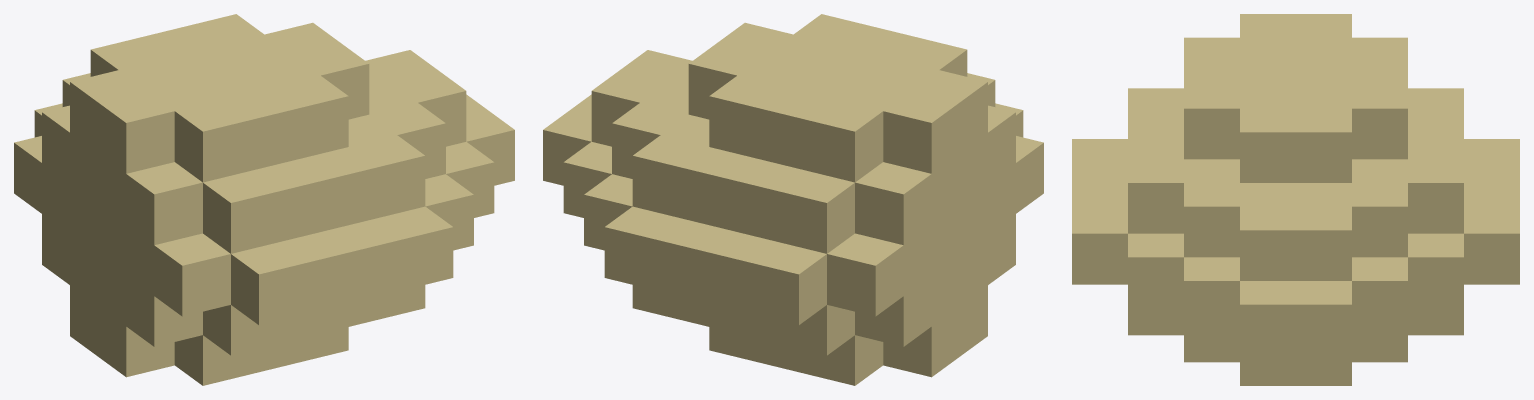
Rendered from Snake01-Tail.gltf.
3 views of the same model, side by side, from view 1: azimuth 30°, elevation 25°; view 2: azimuth 150°, elevation 25°; view 3: azimuth 270°, elevation 25° (orthographic).
Bounding box in the file's own units: 8 × 5 × 8.
